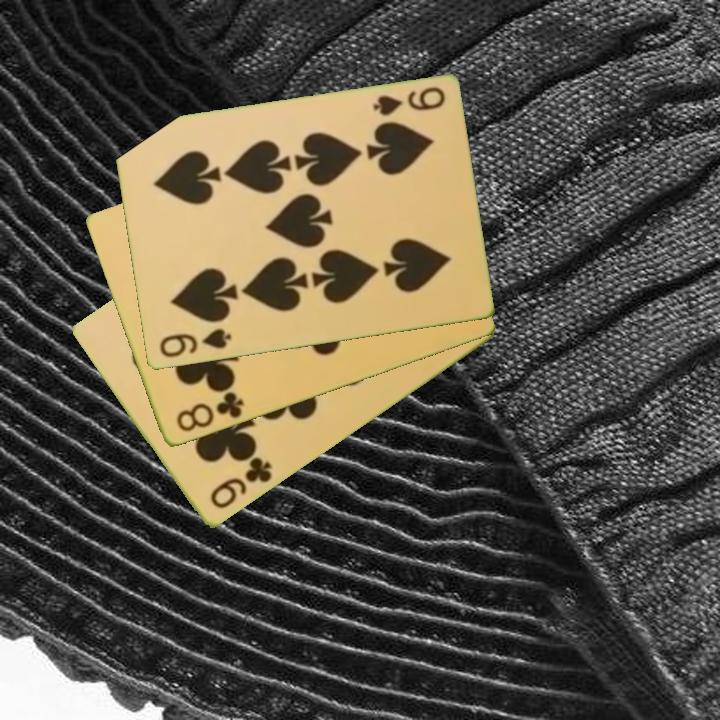8c: (172, 388, 247, 436)
9c: (206, 454, 275, 513)
9s: (369, 83, 448, 120), (155, 325, 234, 361)
